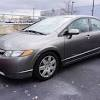Honda: (1, 15, 100, 79)
